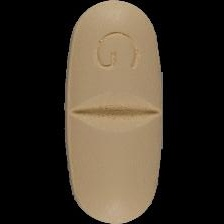54868-6129: (0, 0, 224, 224)
